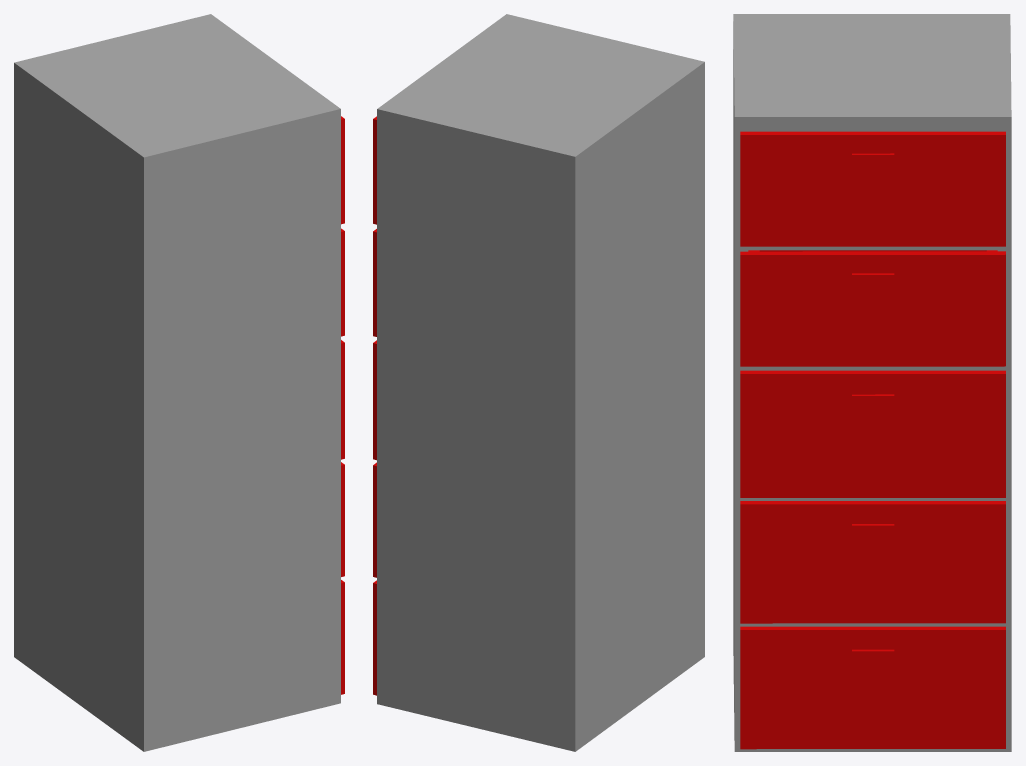
File: chest_of_drawers.fbx
The picture shows the model from 3 angles, left to right: view 1: azimuth 30°, elevation 25°; view 2: azimuth 150°, elevation 25°; view 3: azimuth 270°, elevation 25°; orthographic projection. The views are drawn at different scales.
Parts seen in each view (by area): view 1: draw_chest; view 2: draw_chest; view 3: draw_chest, draw_03, draw_05, draw_04, draw_02, draw_01.
Boxes of the visible parts, box(x1,y1,x2,y2) form: draw_chest: box(14, 14, 340, 751); draw_chest: box(377, 14, 704, 751); draw_chest: box(733, 14, 1011, 751); draw_03: box(740, 370, 1005, 497); draw_05: box(740, 626, 1005, 749); draw_04: box(740, 501, 1005, 623); draw_02: box(740, 250, 1005, 366); draw_01: box(740, 131, 1005, 246).
Size of the model in its own units: 1.05 by 2.88 by 1.14.
